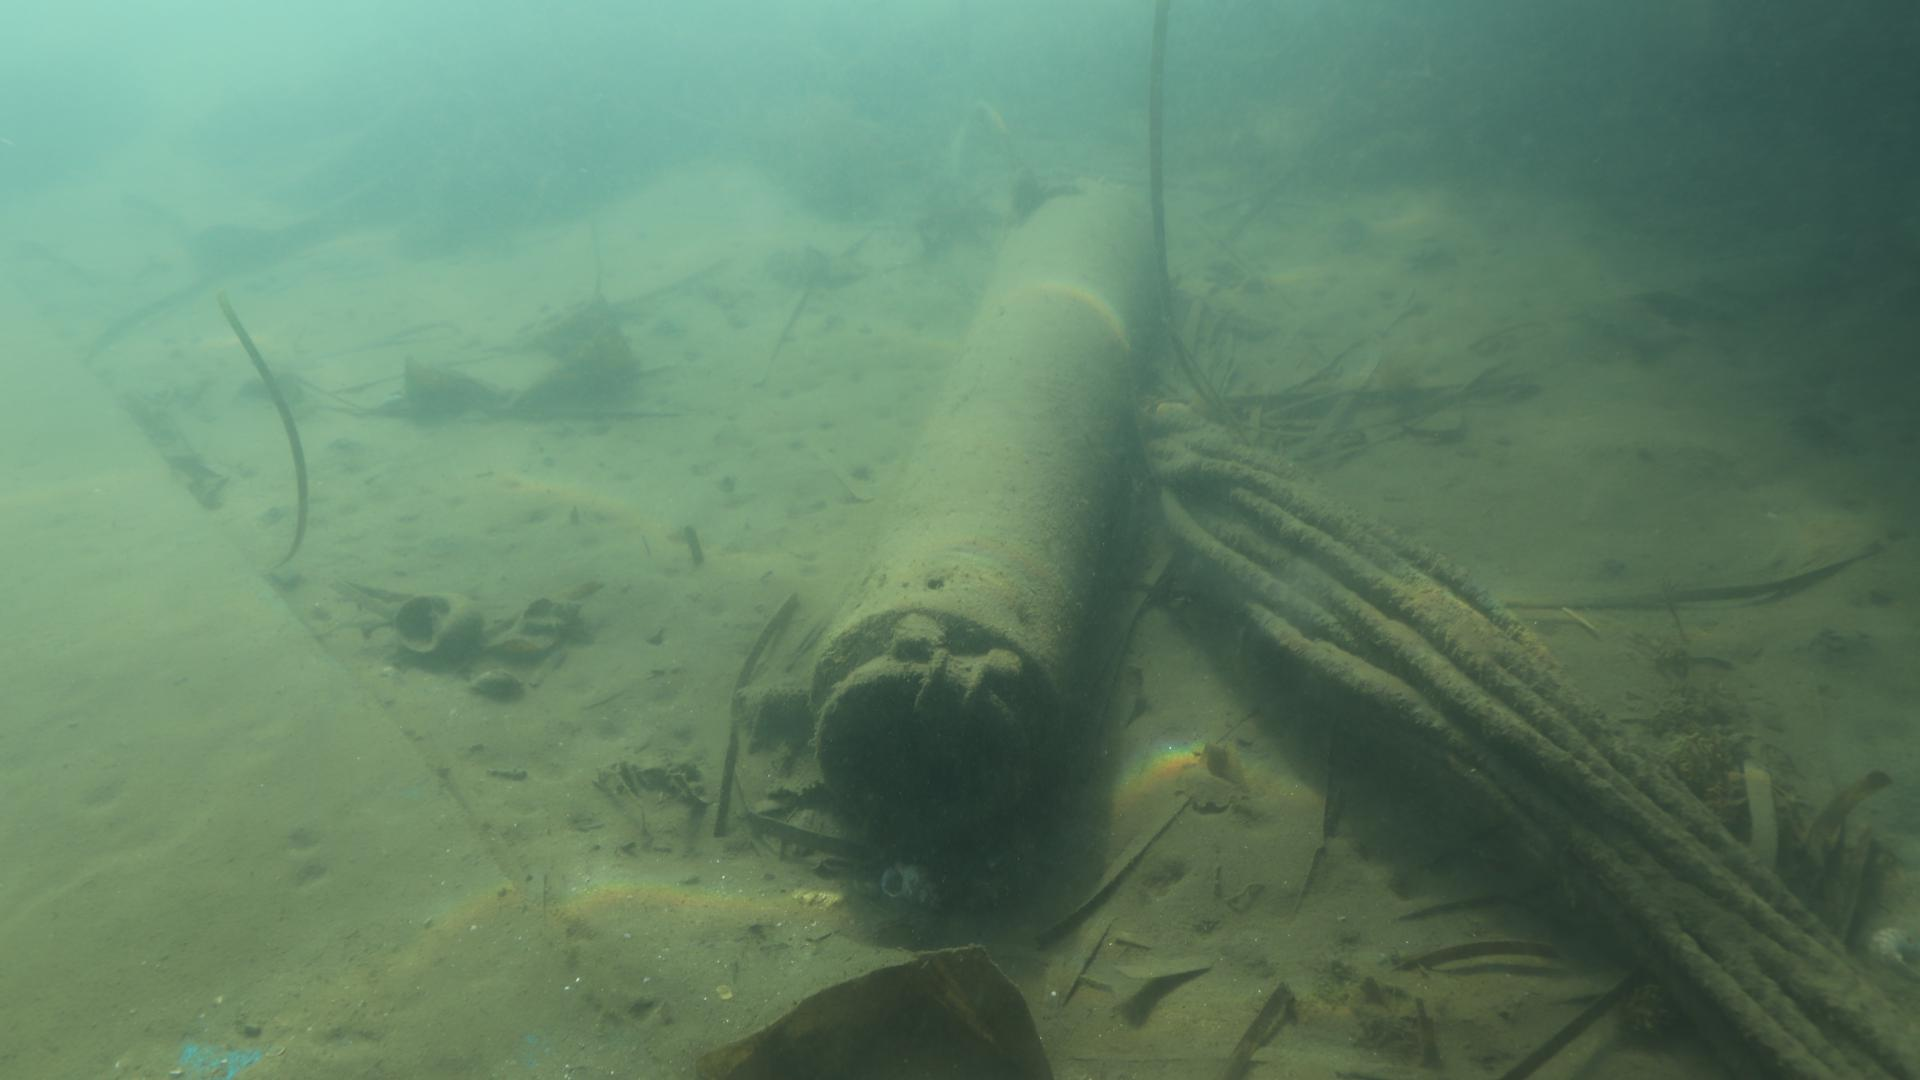bundle of ropes: (1145, 398, 1920, 1080)
eel fish trap: (804, 193, 1159, 865)
